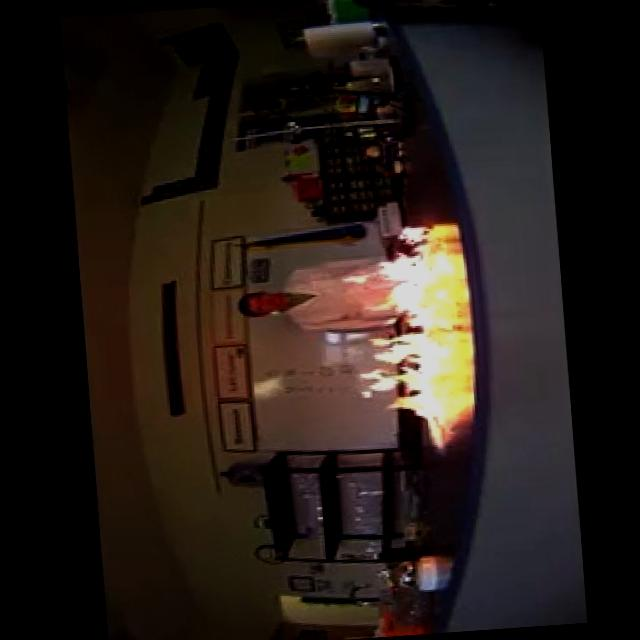helmet: (344, 217, 450, 459)
